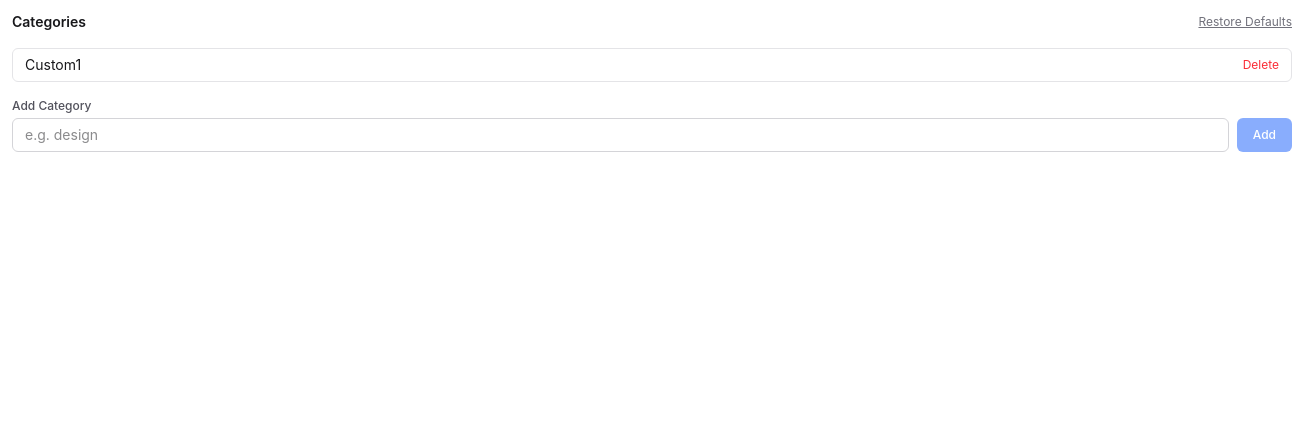
it: CategoryEditor — restore defaults › clicking Restore Defaults resets to ALL_CATEGORIES
What coordinates should you click on to do the following:
click the button "Restore Defaults"
I would click on:
 (1245, 22)
Its box is 1198,14 -> 1292,30.
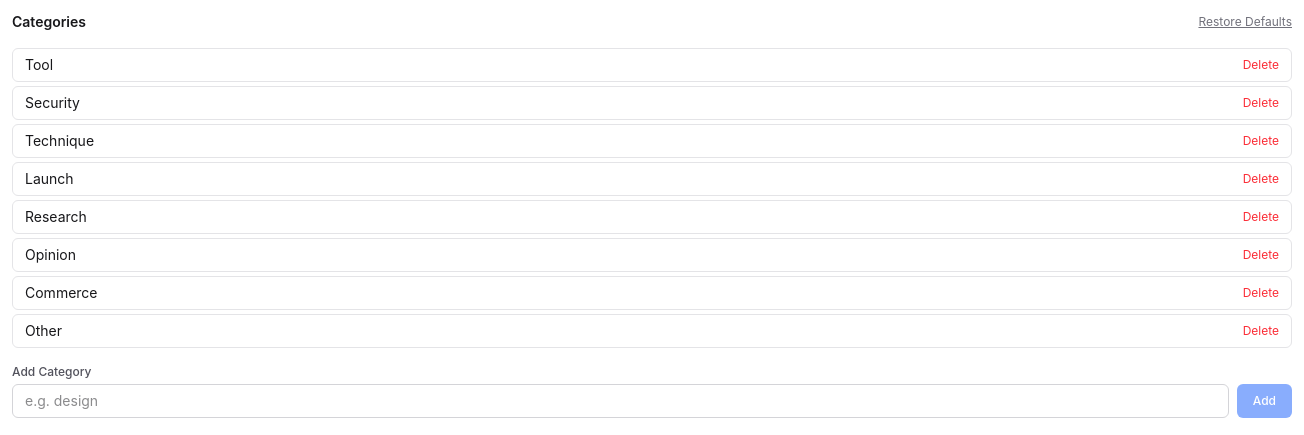
Result: the text "tool" is shown at 25,55 -> 53,75
Result: the text "security" is shown at 25,93 -> 80,113
Result: the text "technique" is shown at 25,131 -> 94,151
